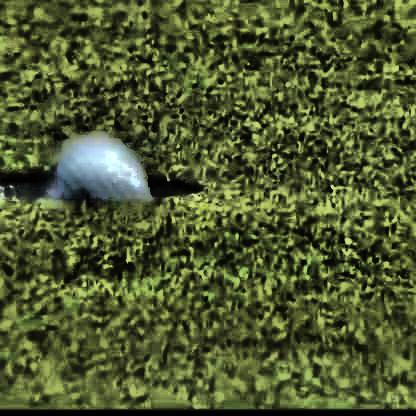golfball: (45, 149, 153, 219)
